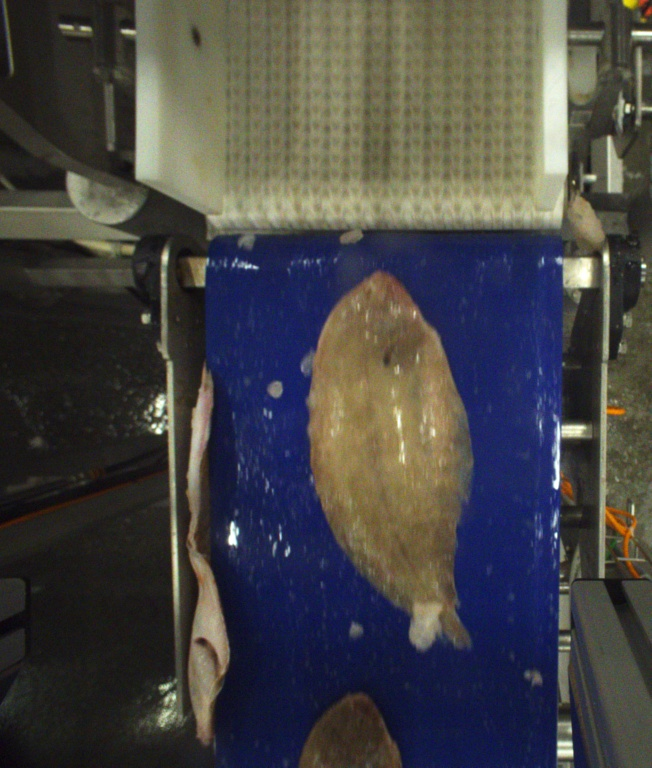SOL: (307, 271, 470, 650)
